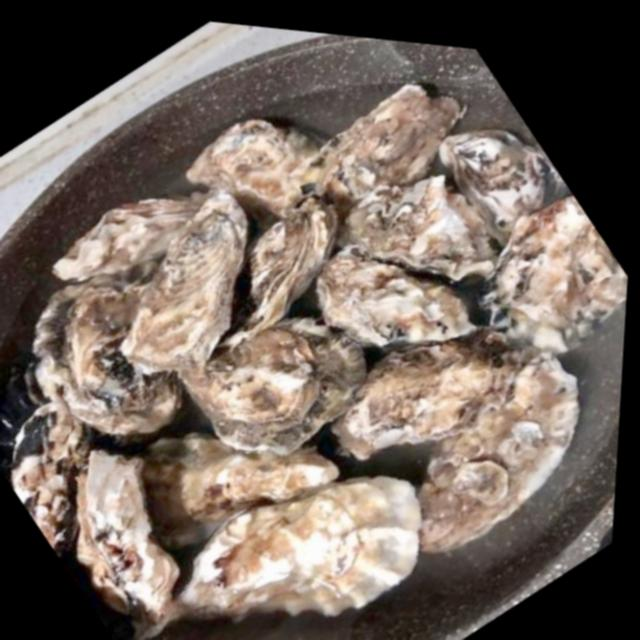Oyster-Closed: (341, 172, 508, 282), (245, 186, 356, 332), (52, 190, 210, 287), (13, 398, 92, 555)
Oyster-Indeterminate: (164, 476, 423, 622), (418, 357, 583, 556), (139, 438, 343, 565), (122, 191, 253, 375), (183, 322, 363, 454), (338, 335, 533, 456), (35, 282, 182, 440), (492, 197, 628, 355), (309, 84, 467, 215), (78, 452, 180, 634), (298, 253, 477, 355), (440, 132, 575, 245), (187, 119, 330, 214)
